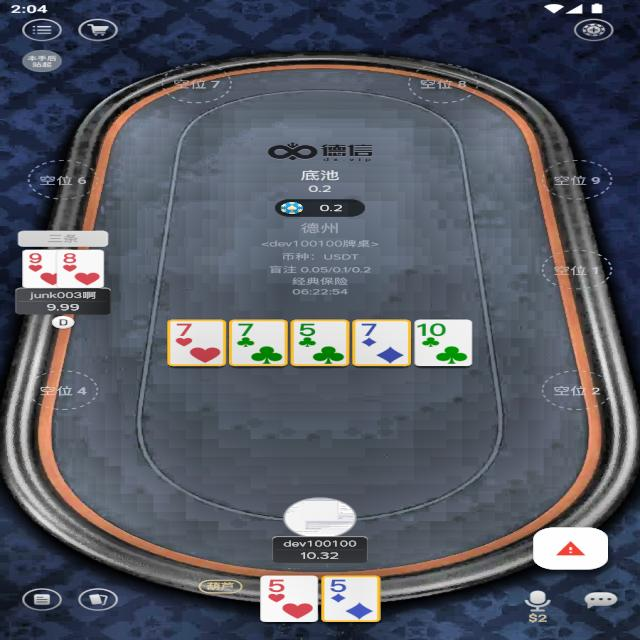10m: (416, 322, 448, 338)
5f: (323, 578, 356, 594)
5h: (264, 578, 290, 594)
5m: (295, 321, 322, 339)
7f: (358, 321, 383, 338)
7h: (172, 322, 198, 338)
7m: (231, 321, 264, 338)
8h: (60, 251, 79, 264)
9h: (25, 251, 47, 265)
